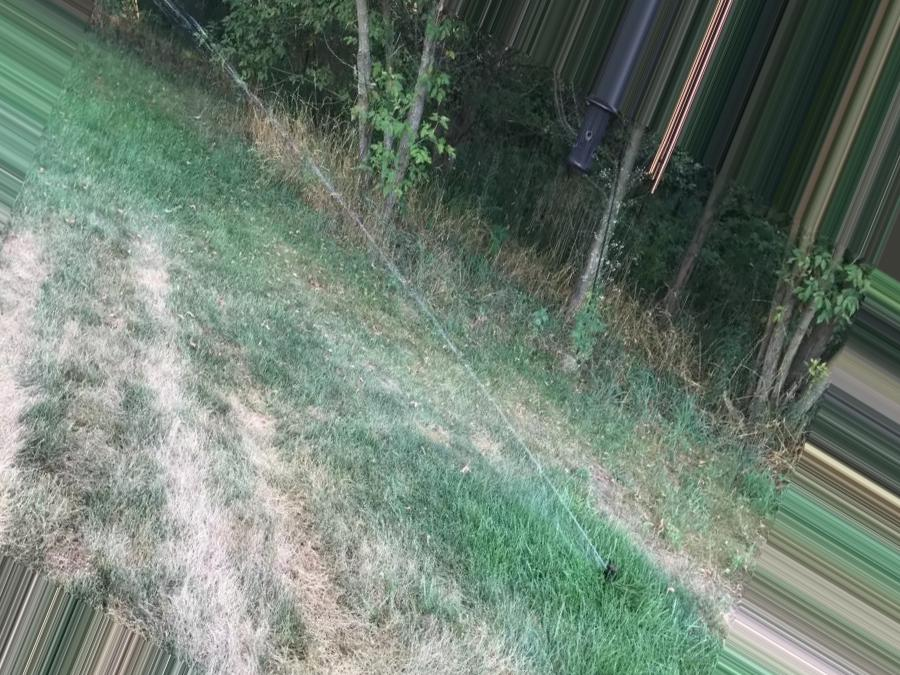patch: (124, 244, 219, 609), (256, 501, 353, 628), (15, 245, 47, 452)
